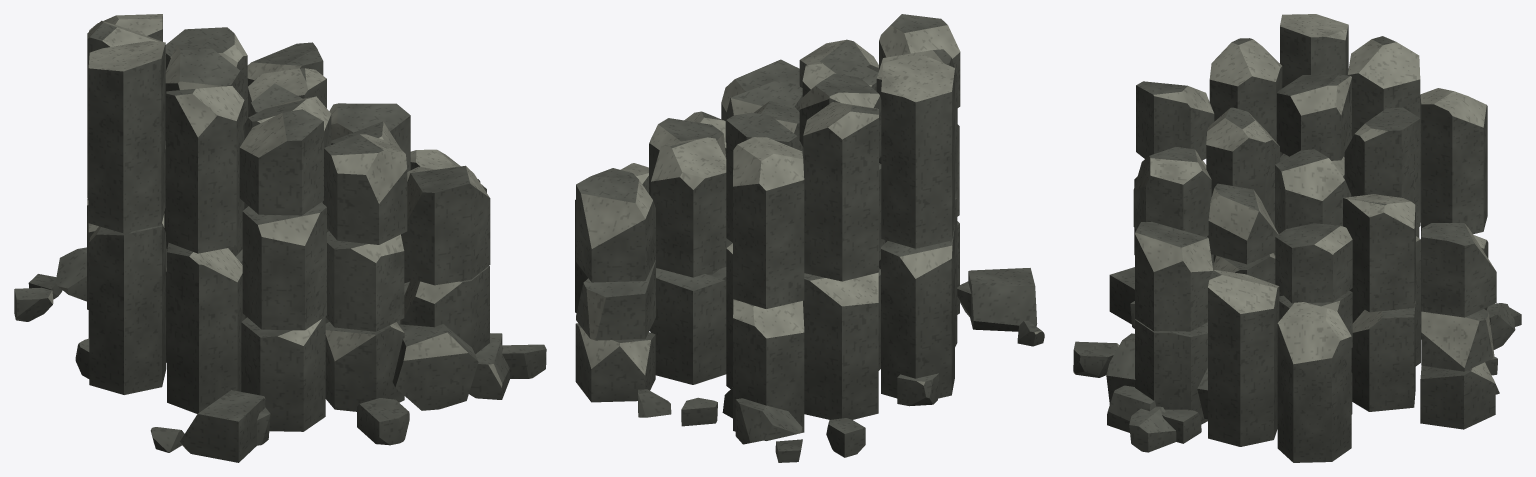
3 views of the same model, side by side, from view 1: azimuth 30°, elevation 25°; view 2: azimuth 150°, elevation 25°; view 3: azimuth 270°, elevation 25° (orthographic). The views are drawn at different scales.
Parts seen in each view (by area): view 1: weathered mineral, fresh chipped mineral; view 2: weathered mineral, fresh chipped mineral; view 3: weathered mineral, fresh chipped mineral.
Boxes of the visible parts, bbox=[...] form: weathered mineral: bbox=[14, 16, 546, 462]; fresh chipped mineral: bbox=[48, 14, 502, 451]; weathered mineral: bbox=[575, 14, 1044, 462]; fresh chipped mineral: bbox=[579, 15, 1041, 432]; weathered mineral: bbox=[1073, 25, 1521, 462]; fresh chipped mineral: bbox=[1073, 14, 1495, 383].
Size of the model in its own units: 1.27 by 0.9996 by 1.38.
2 materials, 2 textured.
